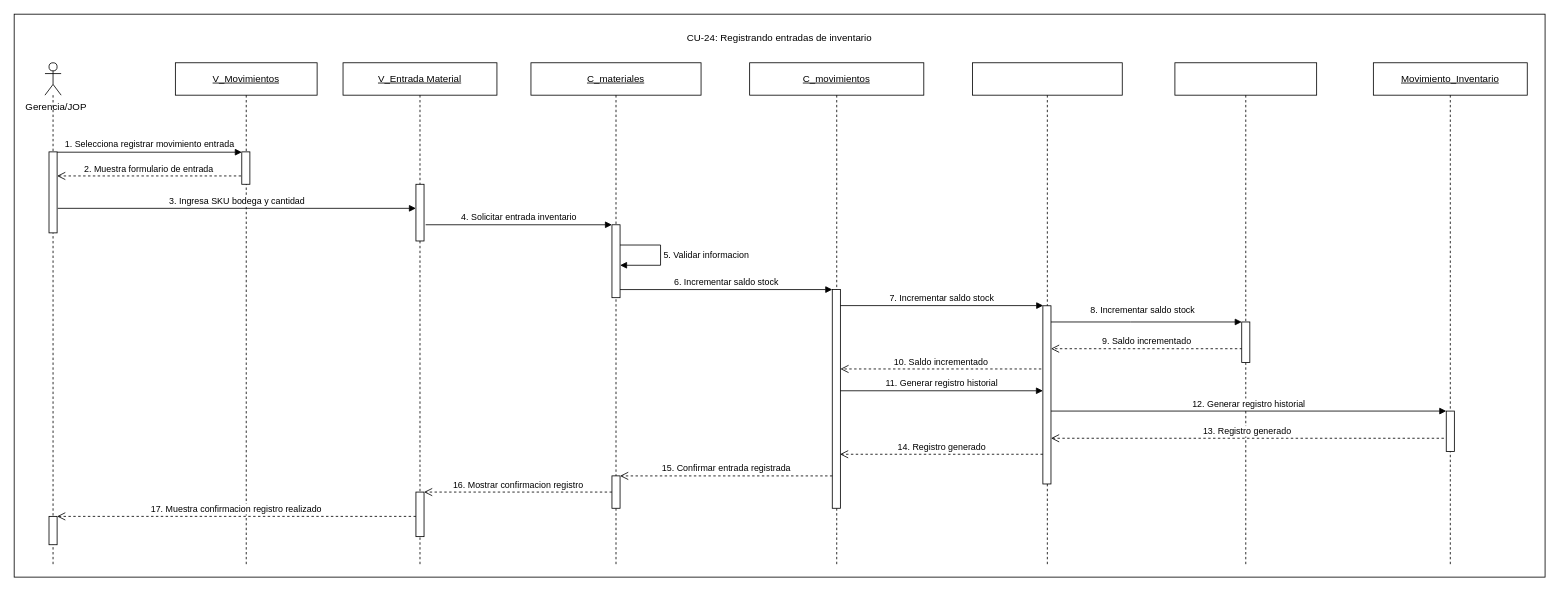
Image size: 1559x591. Some labels were removed from this diagram. The shapes that lost their labels are listed below. From the top down, each one's centre as x and y in pixels, then its label:
At point 1047,313: "C_Postgre".
At point 1245,313: "Inventario_Bodega".
